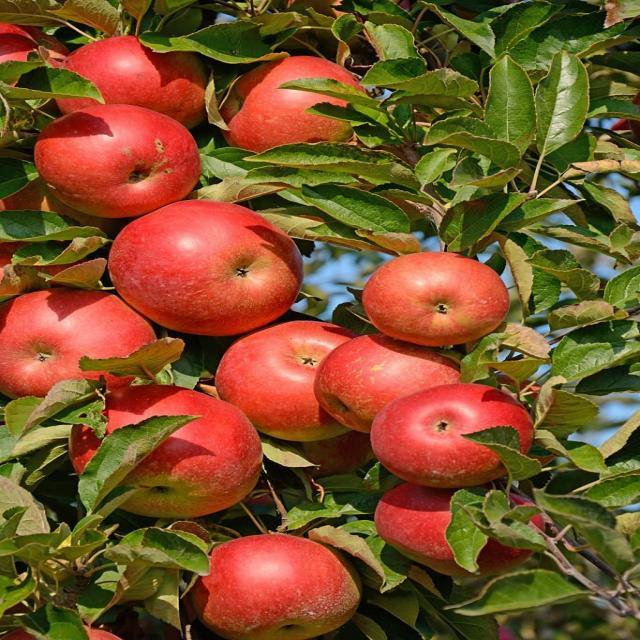Red Apple: (108, 195, 317, 334), (79, 384, 264, 500), (219, 317, 386, 436), (380, 468, 544, 572), (218, 45, 366, 159), (213, 532, 358, 640), (39, 113, 200, 210), (377, 386, 541, 480), (6, 289, 147, 395), (322, 328, 463, 425), (62, 35, 217, 120), (371, 250, 509, 345), (1, 22, 47, 99), (9, 624, 146, 640)
